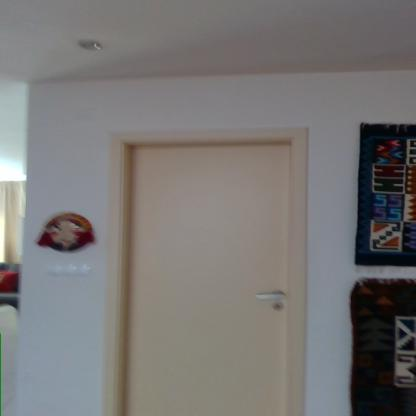closed: (90, 104, 340, 416)
